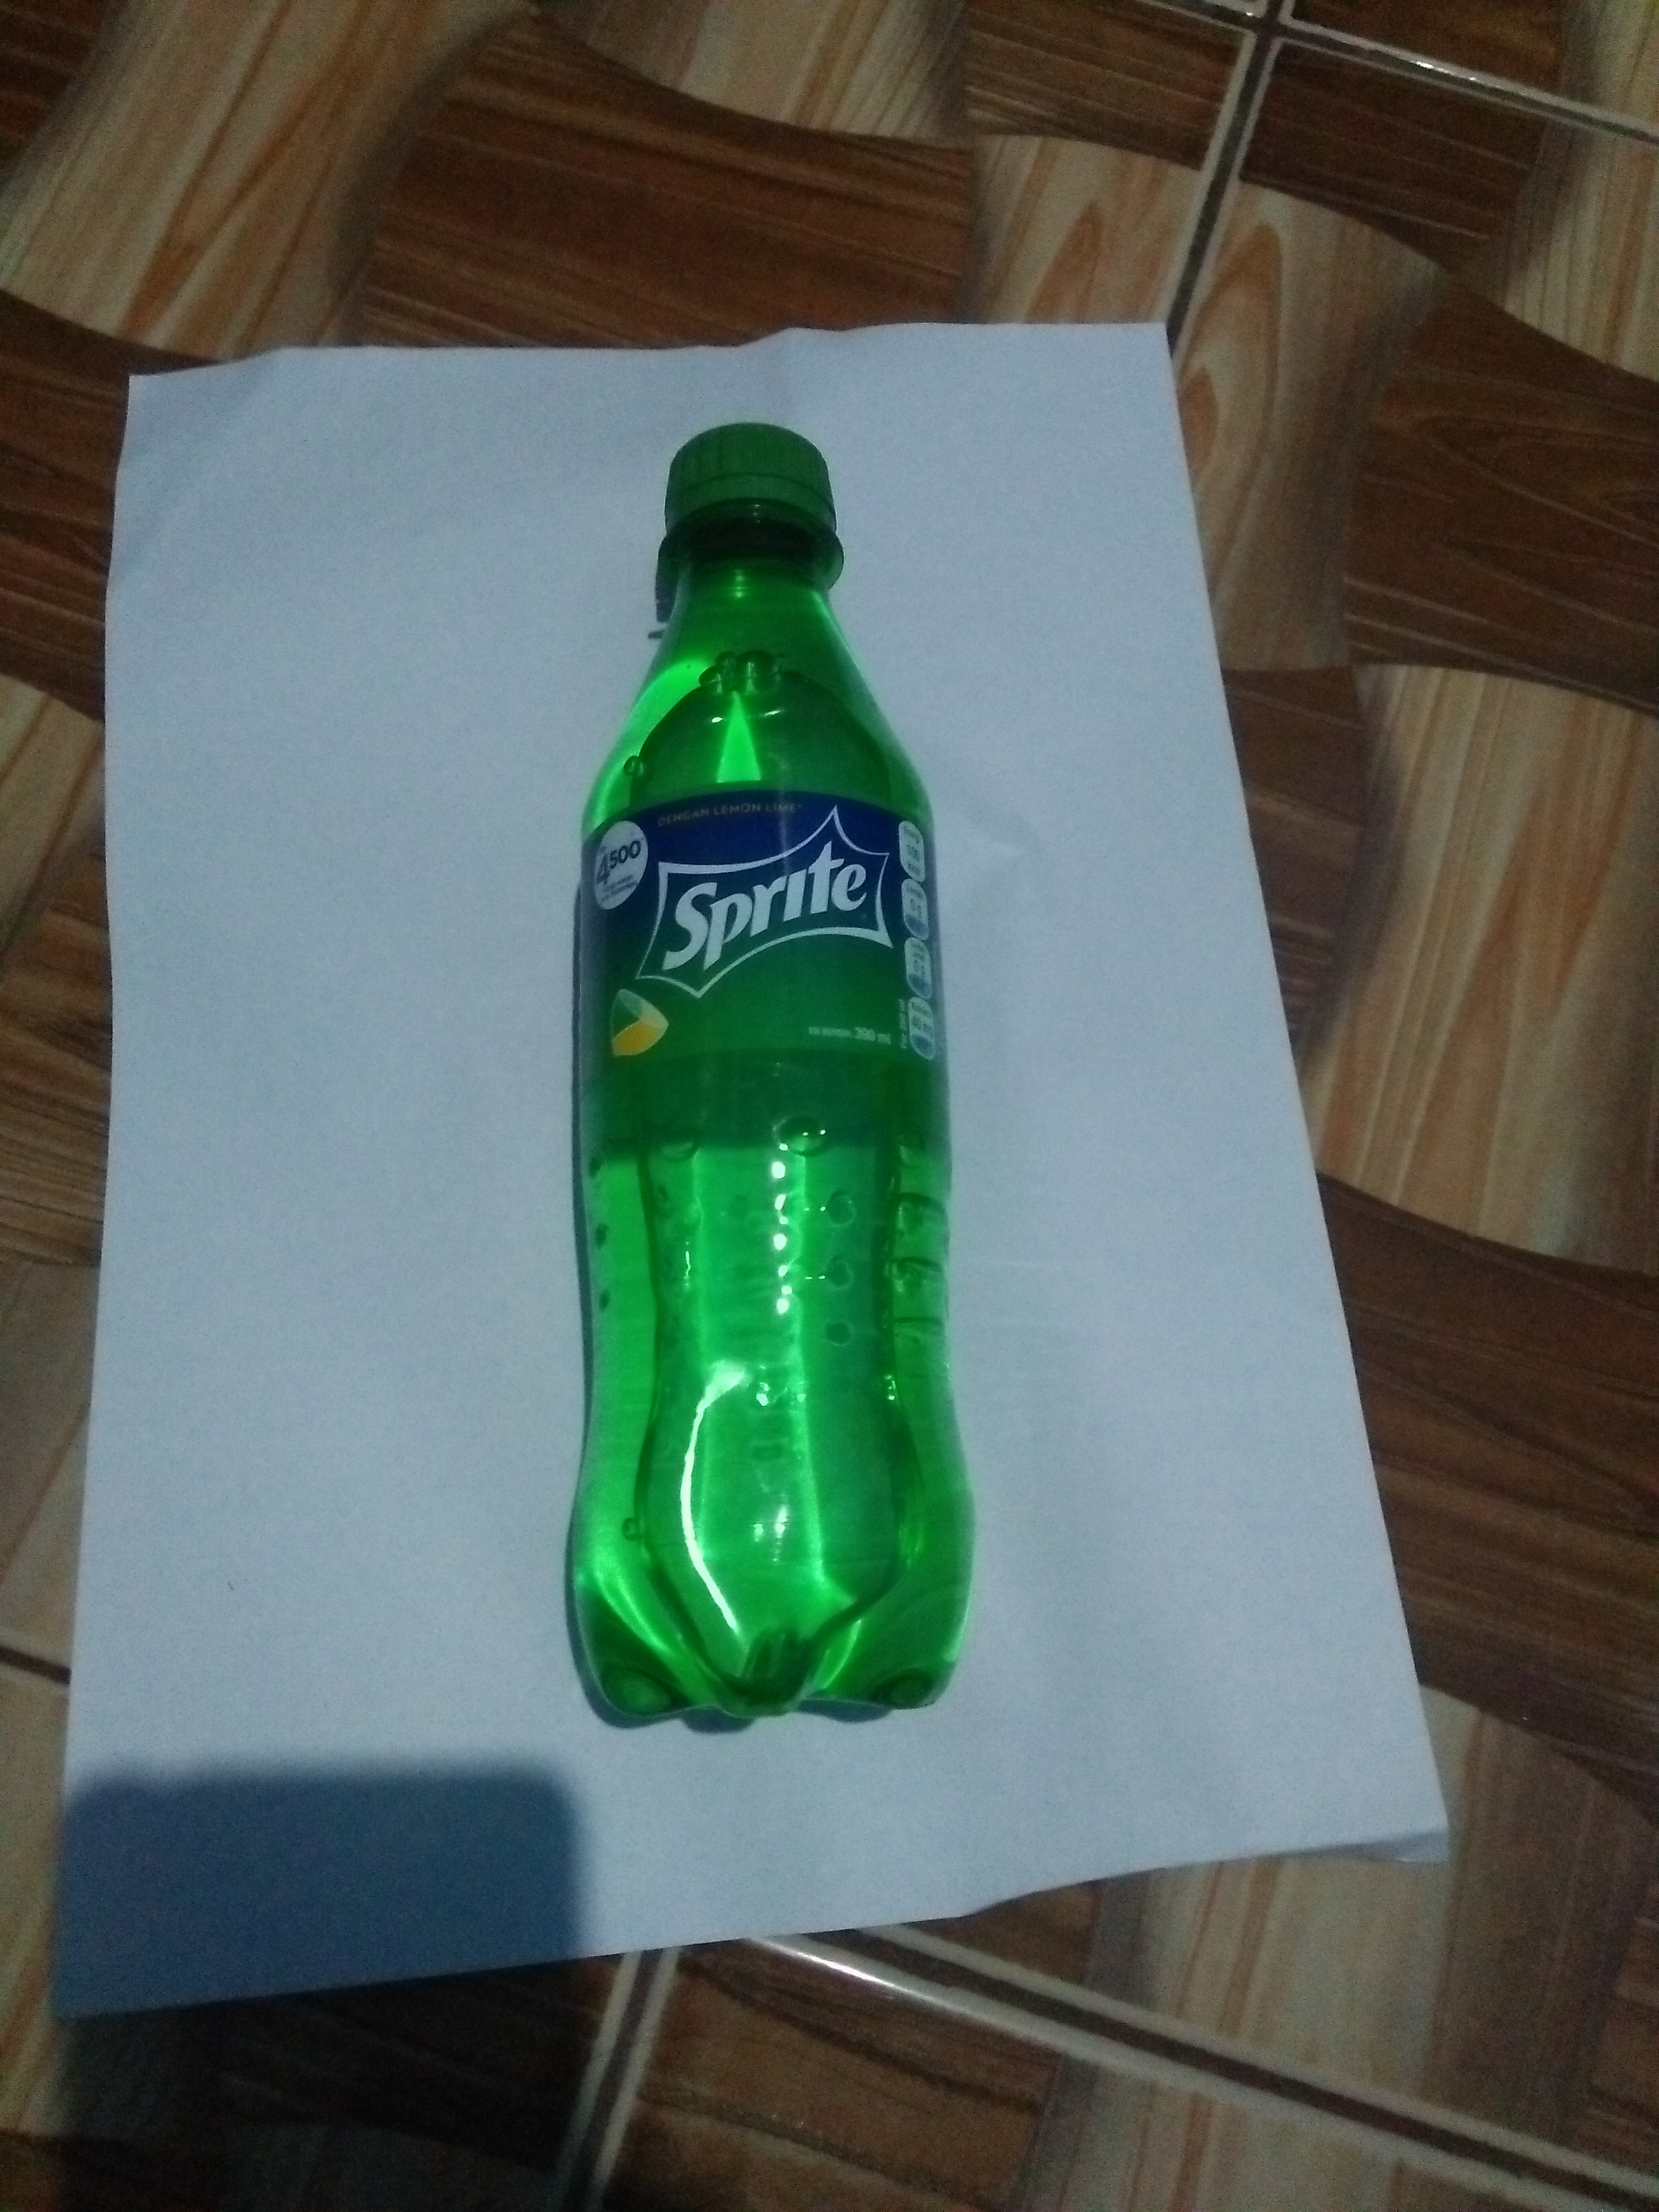Sprite: (545, 409, 1014, 1754)
